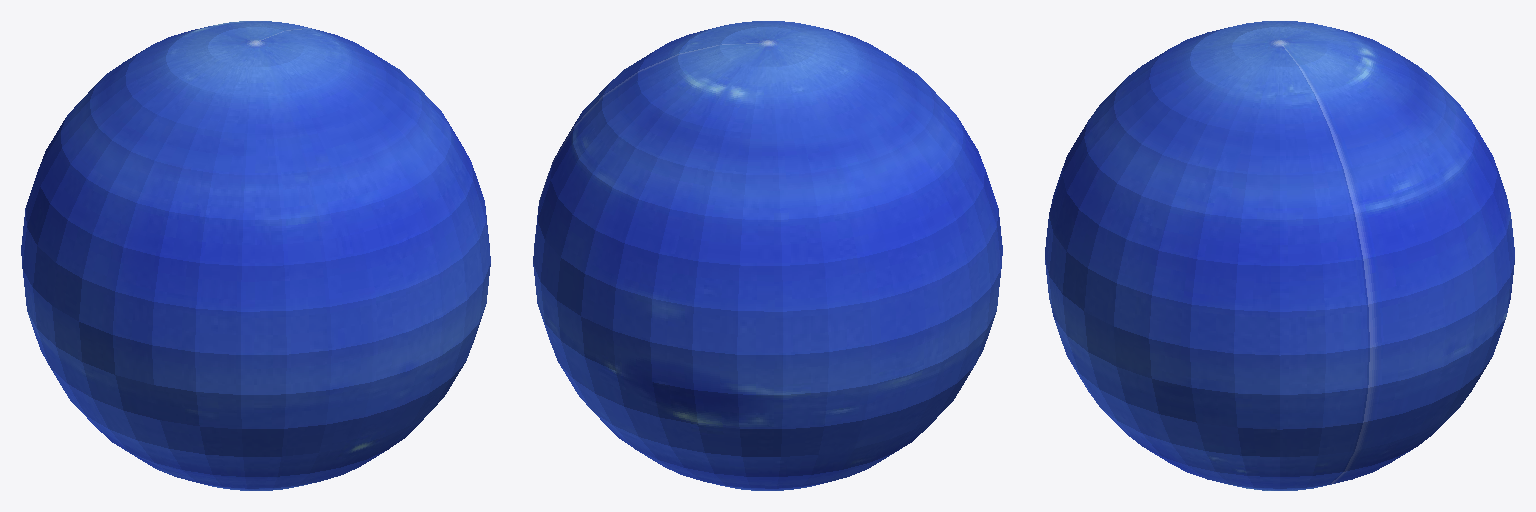
The picture shows the model from 3 angles: view 1: azimuth 30°, elevation 25°; view 2: azimuth 150°, elevation 25°; view 3: azimuth 270°, elevation 25°; orthographic projection.
Visible parts, largest first — view 1: Sphere; view 2: Sphere; view 3: Sphere.
Boxes of the visible parts, x1,y1,x2,y2 form: Sphere: [21, 21, 490, 490]; Sphere: [533, 21, 1002, 490]; Sphere: [1045, 21, 1514, 490].
Size of the model in its own units: 194 by 194 by 194.
1 materials, 1 textured.